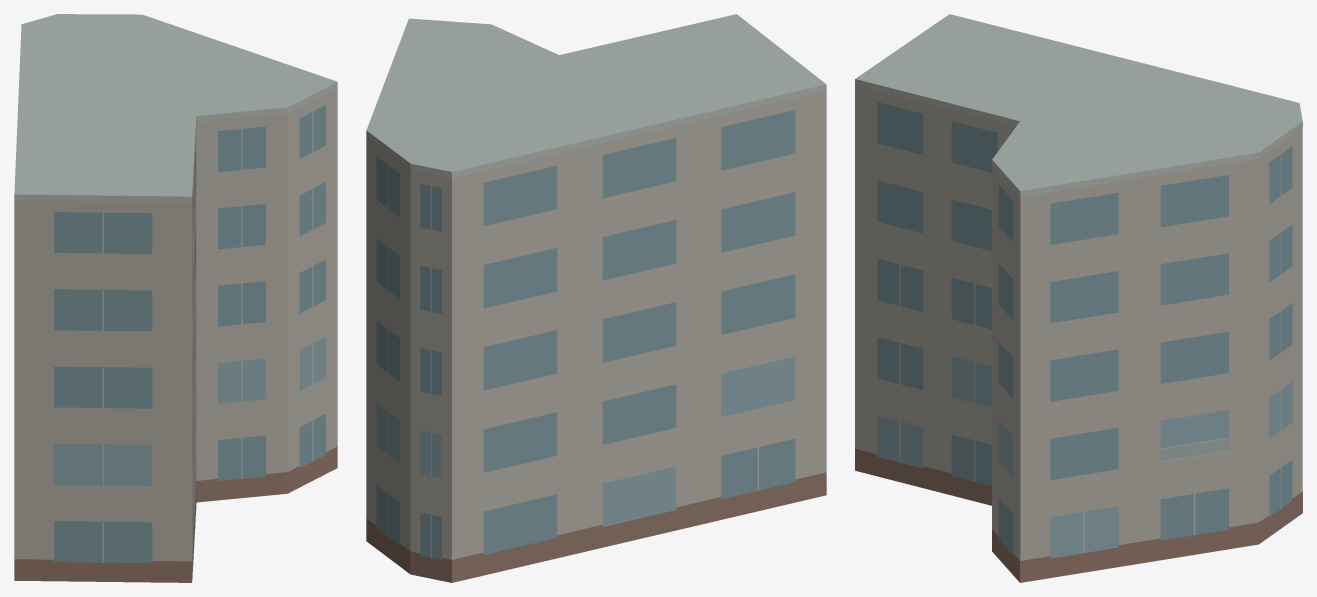
Rendered from survey-upis-32539985.glb.
3 renders of one model, left to right at view 1: azimuth 30°, elevation 25°; view 2: azimuth 150°, elevation 25°; view 3: azimuth 270°, elevation 25°, orthographic. The views are drawn at different scales.
Parts seen in each view (by area): view 1: survey-upis-32539985.tmp; view 2: survey-upis-32539985.tmp; view 3: survey-upis-32539985.tmp.
Part boxes in pixels (x1,y1,x2,y2): survey-upis-32539985.tmp: [14, 14, 337, 582]; survey-upis-32539985.tmp: [366, 14, 826, 582]; survey-upis-32539985.tmp: [855, 14, 1302, 582].
Bounding box in the file's own units: 15.28 × 15.75 × 16.32.
